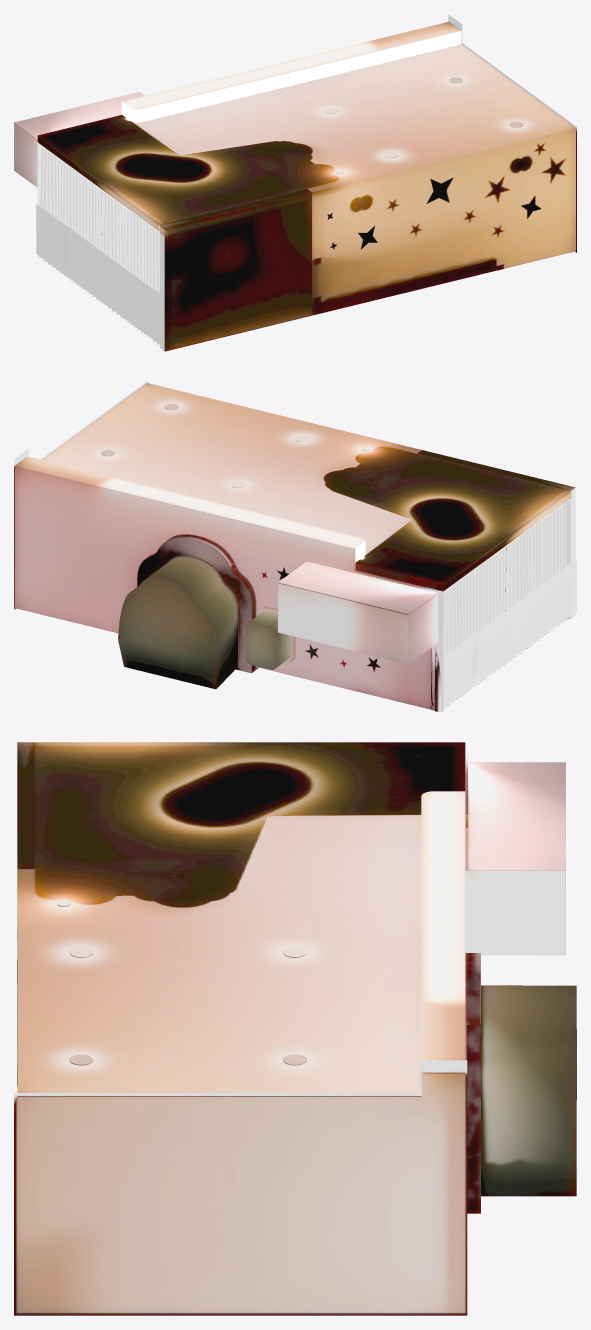
The model's file is Luxecradle.glb.
3 renders of one model, top to bottom at view 1: azimuth 30°, elevation 25°; view 2: azimuth 150°, elevation 25°; view 3: azimuth 270°, elevation 25°, orthographic. The views are drawn at different scales.
Visible parts, largest first — view 1: Room, light, Floor; view 2: Room, Floor; view 3: Room, Floor.
Boxes of the visible parts, x1,y1,x2,y2 form: Room: [14, 14, 576, 351]; light: [122, 31, 461, 122]; Floor: [38, 258, 159, 347]; Room: [14, 380, 576, 712]; Floor: [443, 618, 570, 712]; Room: [14, 742, 576, 1315]; Floor: [17, 1313, 465, 1314].
Bounding box in the file's own units: 26.97 × 9.13 × 18.03.
35 materials, 31 textured.
